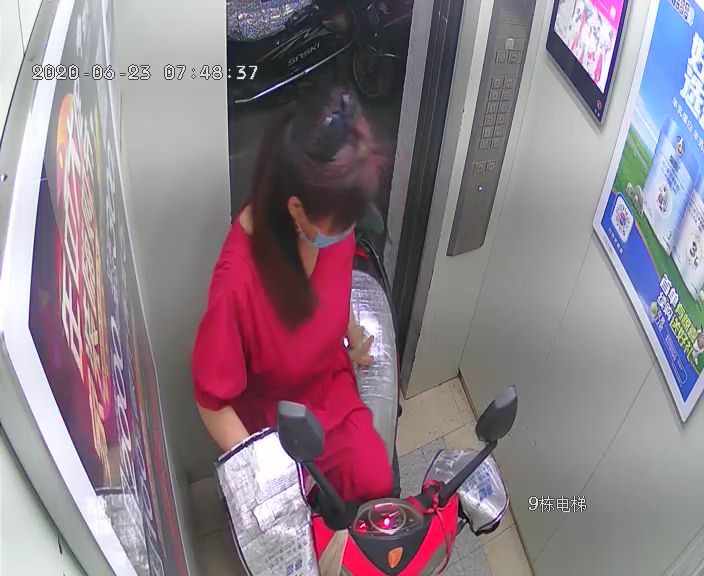Electric-bicycle: (274, 198, 522, 576)
